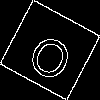O: (24, 25, 80, 84)
